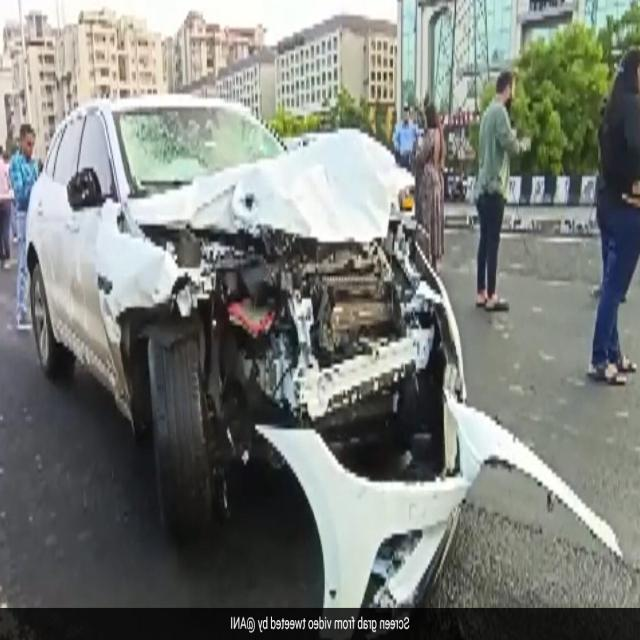accident: (29, 96, 622, 608)
